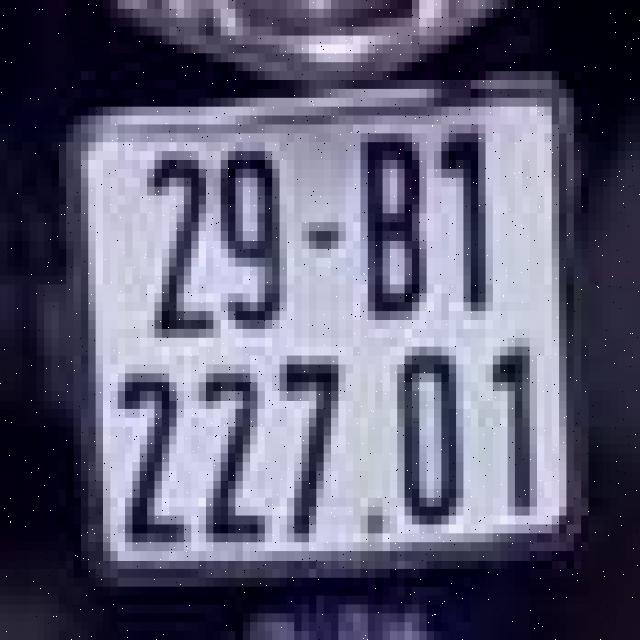0: (394, 346, 467, 524)
1: (482, 333, 548, 520), (438, 124, 497, 320)
2: (110, 365, 192, 551), (140, 147, 213, 342), (199, 364, 272, 542)
7: (276, 351, 349, 538)
9: (217, 151, 291, 329)
B: (353, 129, 434, 324)
